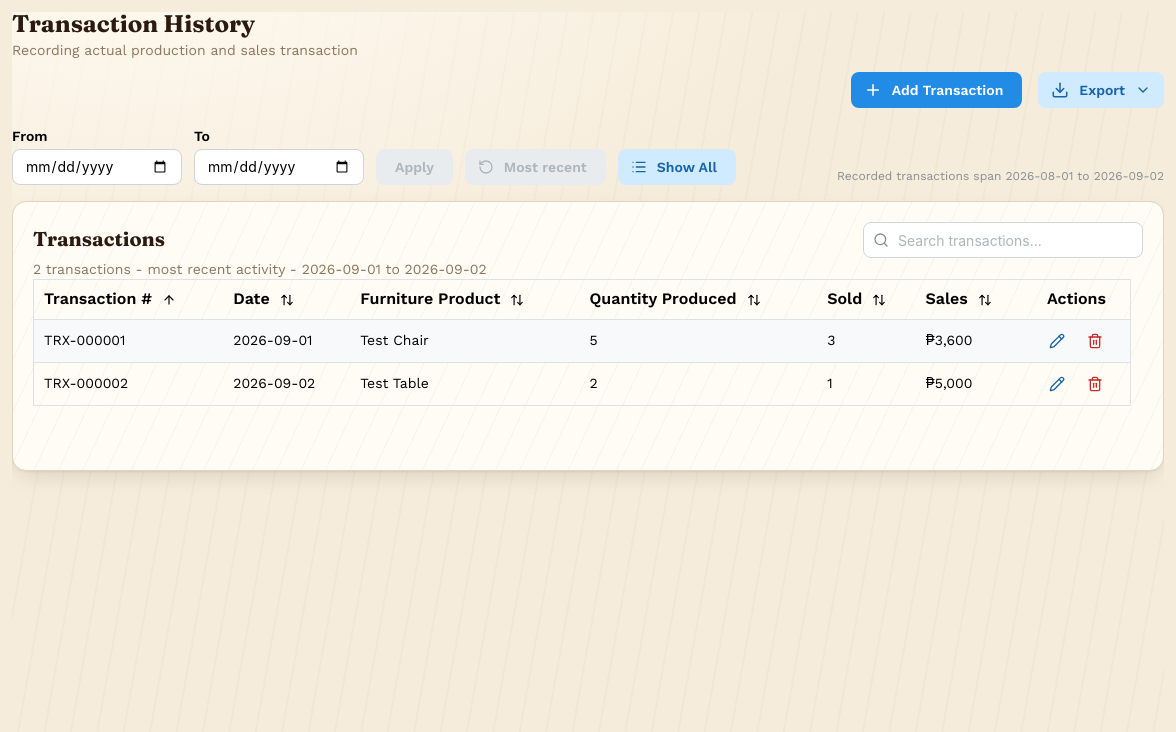
Test: TransactionHistoryPage date range filter › refuses an end date earlier than the start date
Type "2026-08-31" into the date field labelled "From".
click(97, 167); type("2026-08-31")  # box [12, 149, 182, 185]
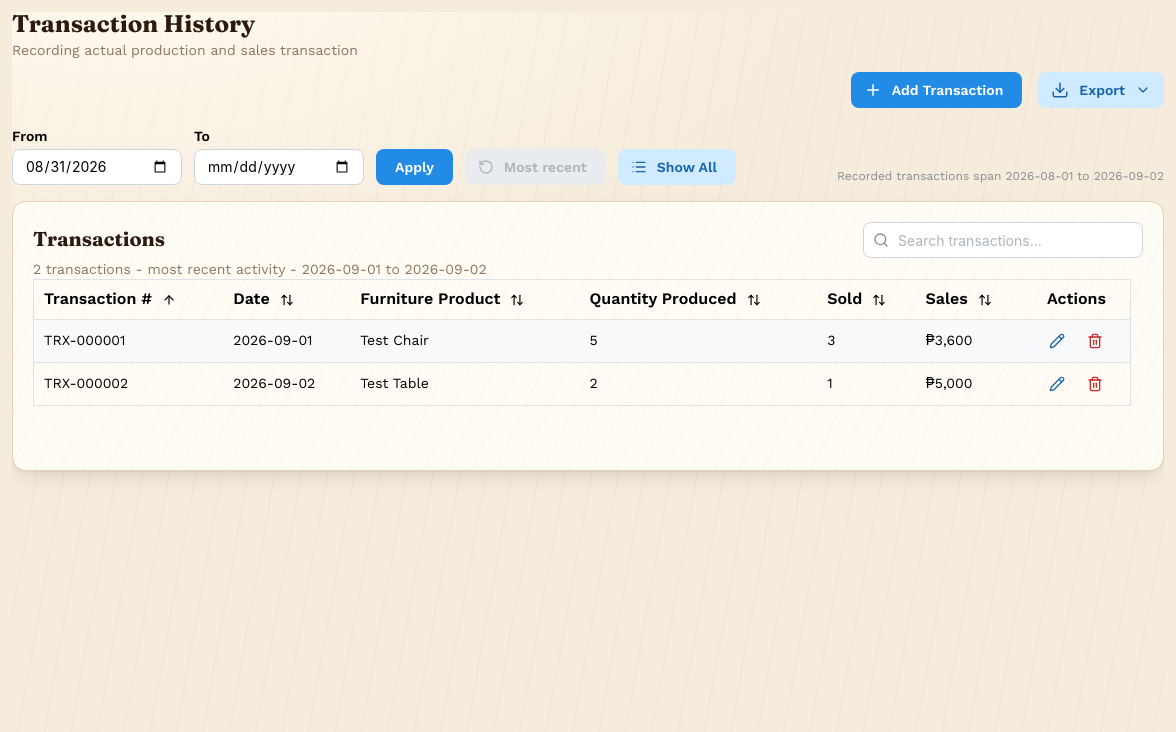
Type "2026-08-01" into the date field labelled "To".
click(279, 167); type("2026-08-01")  # box [194, 149, 364, 185]
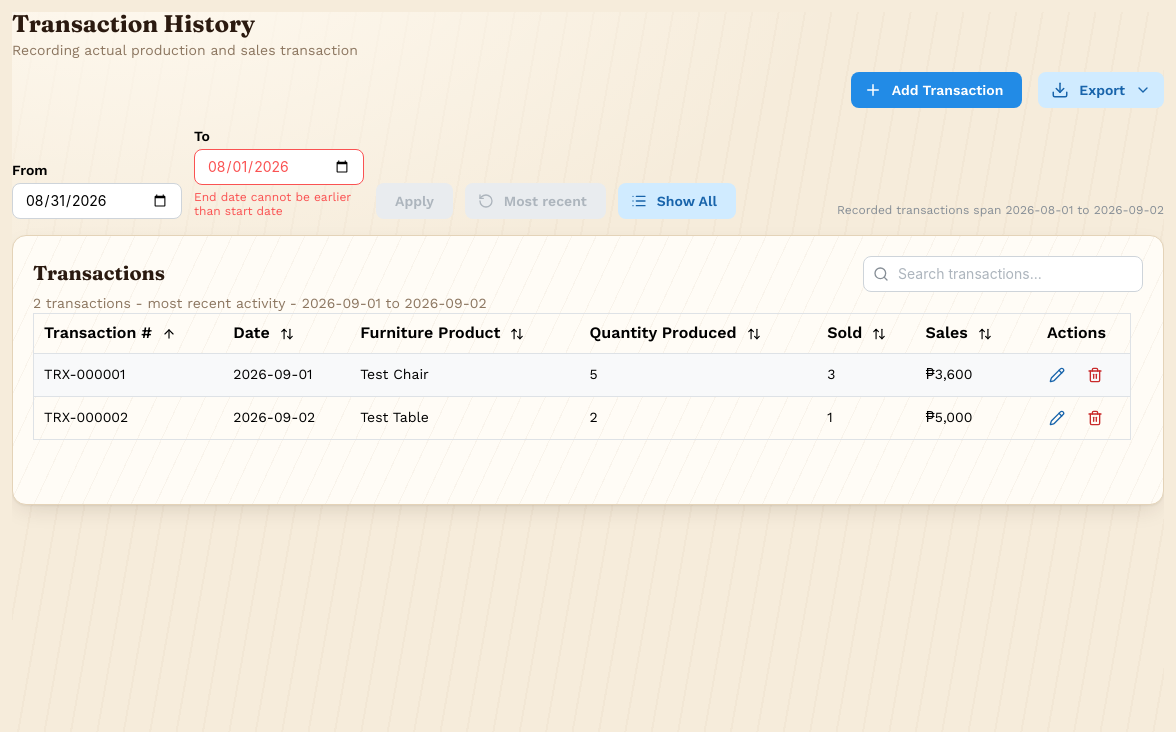
Now the text "End date cannot be earlier than start date" is shown, box [194, 190, 364, 219]
Now the button "Apply" is disabled, box [376, 183, 453, 219]
